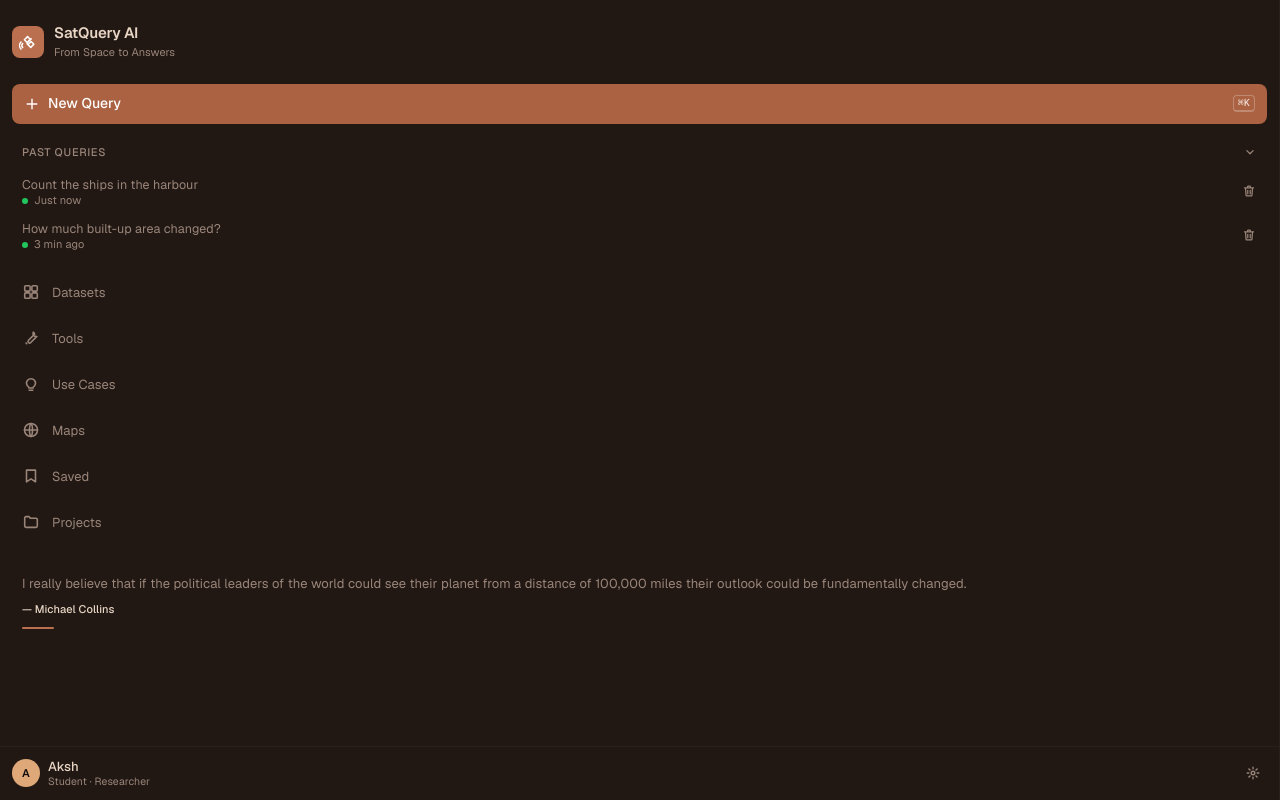
it: the rail › lists past runs newest first, opens one on click, and removes one from the trash icon
expect the list item "Count the ships in the harbour Just now" is shown: met, box [12,170,1267,212]
Click the button with aria-label "Open “How much built-up area changed".
click(121, 229)  # box [12,214,1267,256]
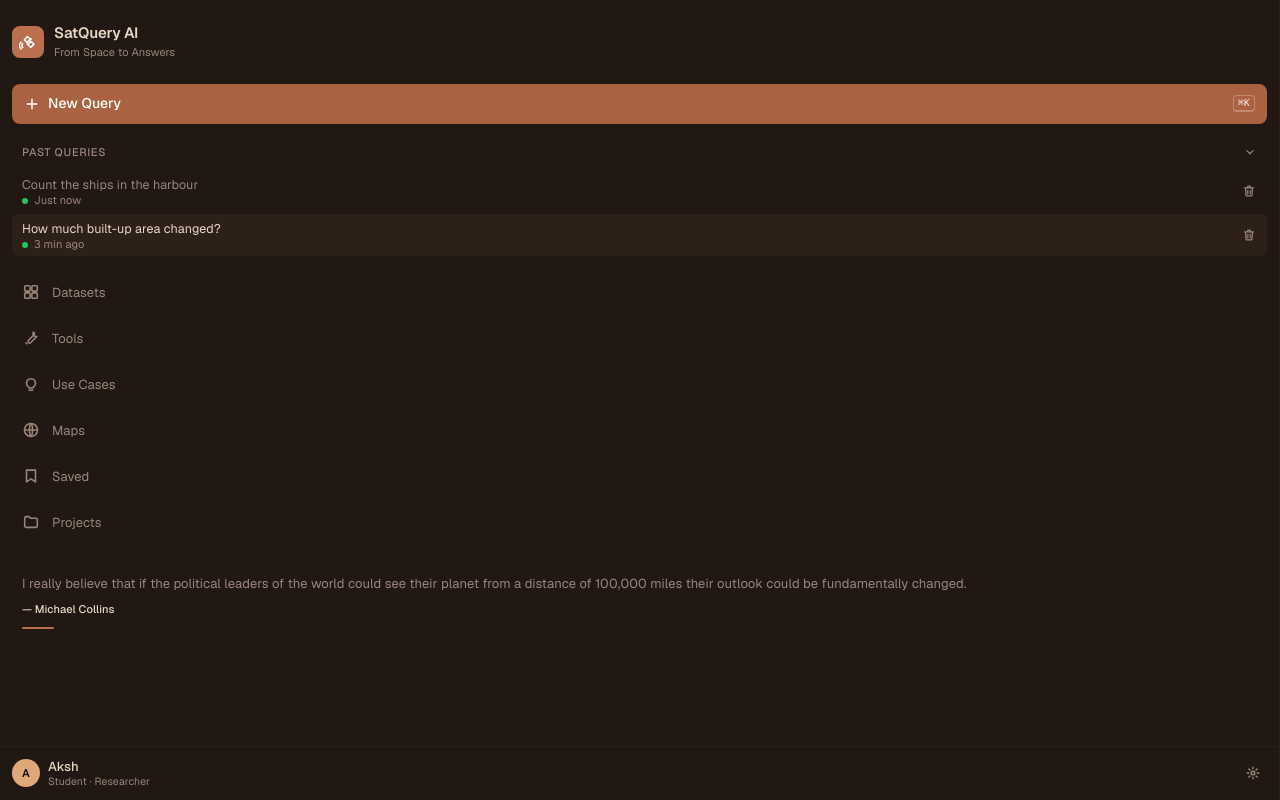
Click the button named "Remove “Count the ships in the harbour”".
click(1249, 191)  # box [1235,177,1263,205]
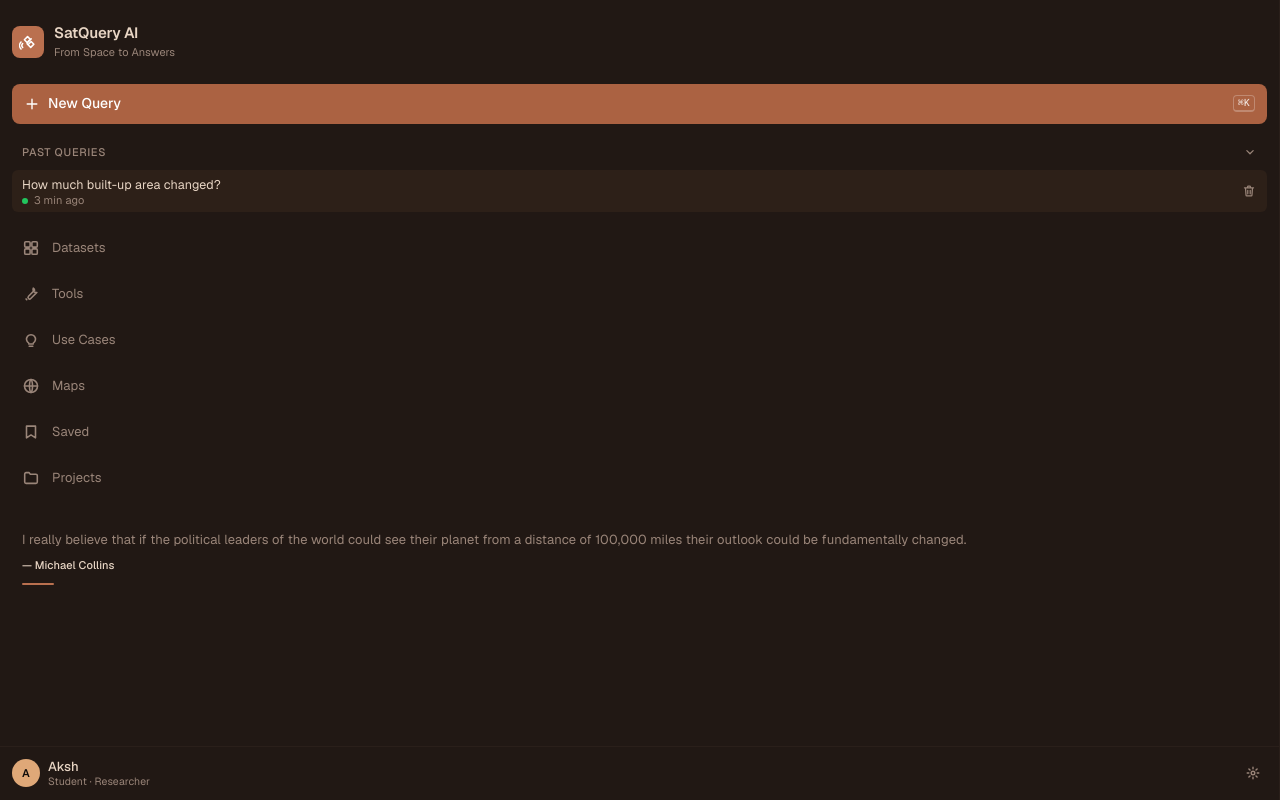
expect the number of list items is 1: met, box [12,170,1267,212]
